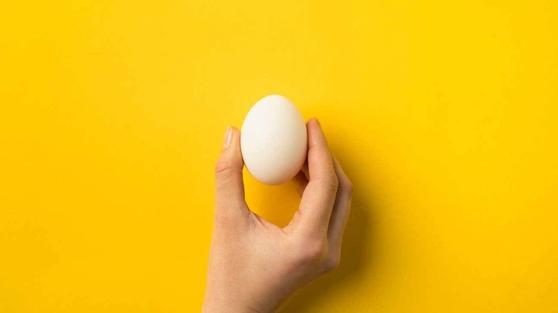egg: (242, 91, 303, 183)
